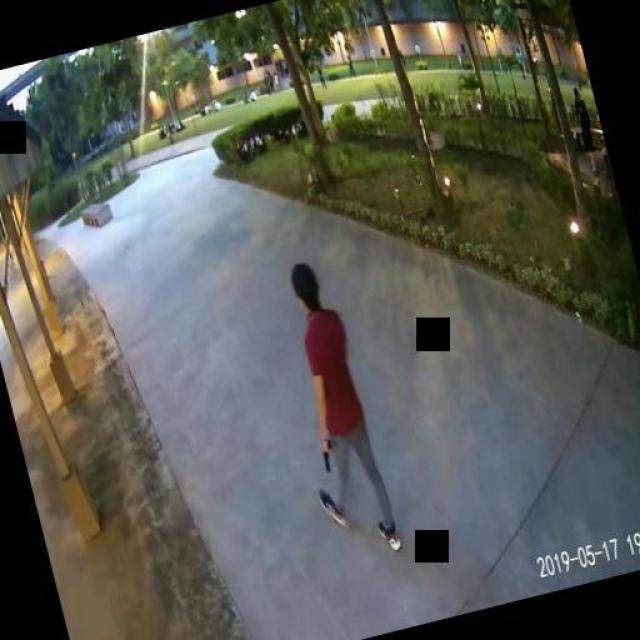gun: (316, 438, 335, 472)
